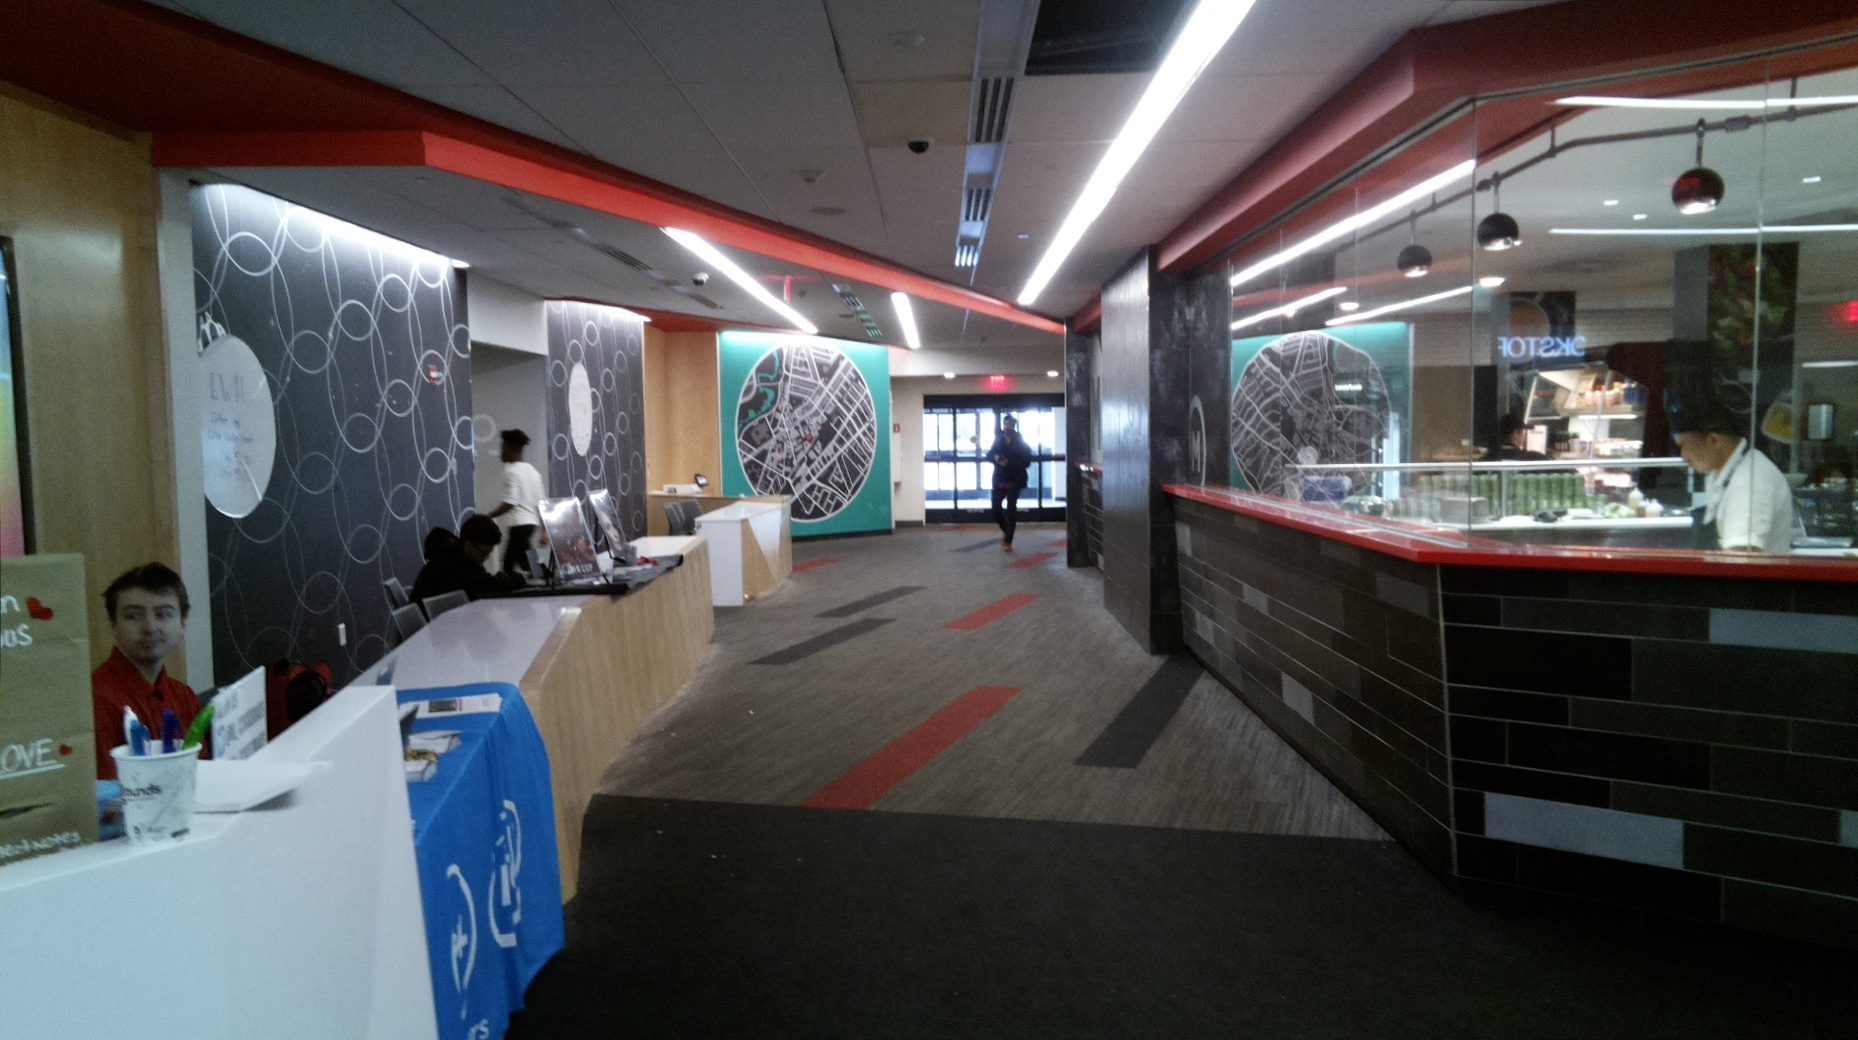exit sign: (986, 373, 1009, 390)
